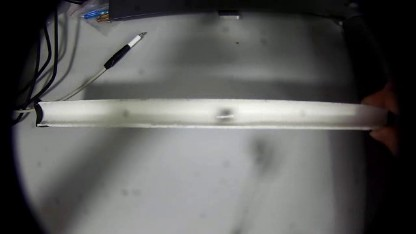gangzhu: (211, 105, 236, 122)
